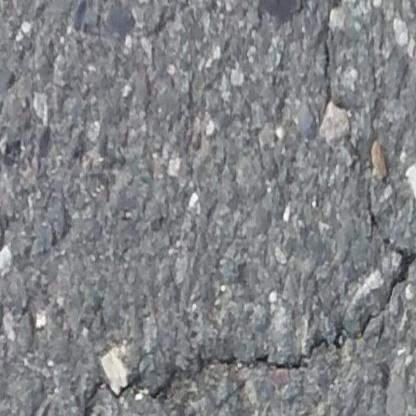Cracks: (78, 251, 416, 416)
